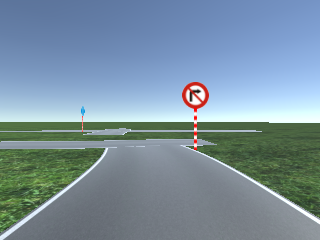5: (1, 188, 319, 240)
NoRight: (181, 81, 210, 109)
